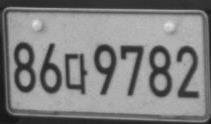2: (175, 44, 200, 99)
6: (39, 42, 63, 95)
7: (119, 44, 145, 96)
8: (148, 44, 173, 97), (13, 40, 36, 93)
9: (91, 42, 117, 95)
다: (64, 53, 88, 94)
